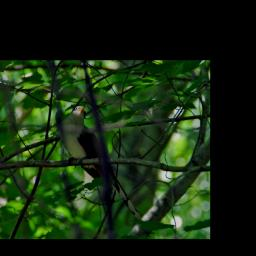Cuckoo: (58, 104, 148, 222)
